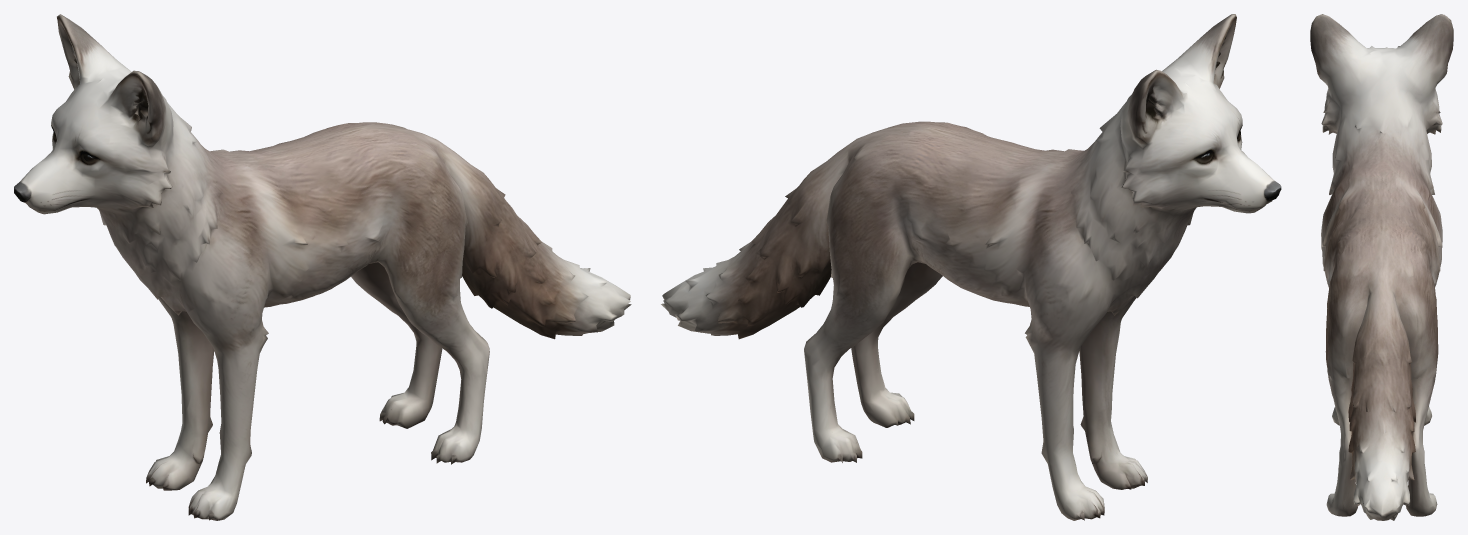
3 renders of one model, left to right at view 1: azimuth 30°, elevation 25°; view 2: azimuth 150°, elevation 25°; view 3: azimuth 270°, elevation 25°, orthographic. The views are drawn at different scales.
Visible parts, largest first — view 1: tripo_node_c50c6fd8-7808-4254-b5c6-2af916c3a6e2; view 2: tripo_node_c50c6fd8-7808-4254-b5c6-2af916c3a6e2; view 3: tripo_node_c50c6fd8-7808-4254-b5c6-2af916c3a6e2.
Part boxes in pixels (x1,y1,x2,y2): tripo_node_c50c6fd8-7808-4254-b5c6-2af916c3a6e2: (14,14,631,520); tripo_node_c50c6fd8-7808-4254-b5c6-2af916c3a6e2: (661,14,1281,520); tripo_node_c50c6fd8-7808-4254-b5c6-2af916c3a6e2: (1310,14,1453,520).
Bounding box in the file's own units: 1 × 0.7403 × 0.2588.
1 material, 1 textured.
